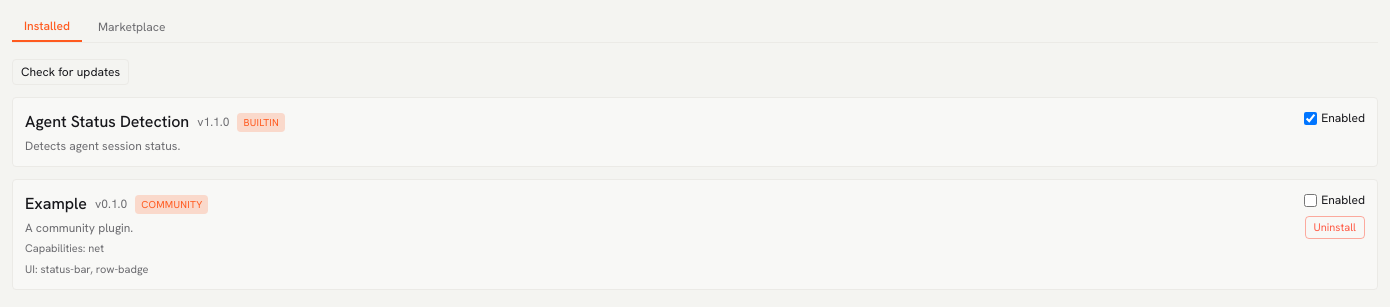
Test: PluginsSettings › separates installed management from the marketplace into tabs
Expected: the button with test id "plugins-check-updates" is shown, [12,59,129,85]
# Switch to the marketplace: search present, update controls hidden.
Click the tab with test id "plugins-tab-marketplace".
click(132, 27)  # box [86,12,178,42]
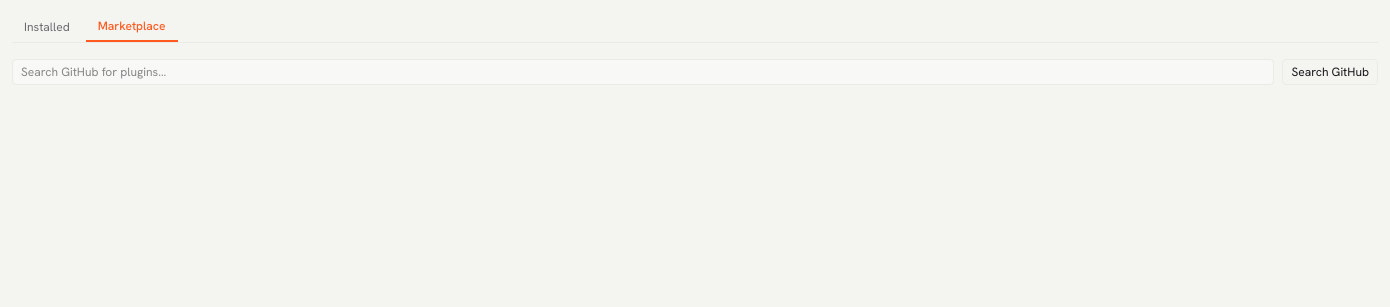
Expected: the button with test id "plugins-discover" is shown, [1282,59,1378,85]
Expected: the button with test id "plugins-check-updates" is gone
